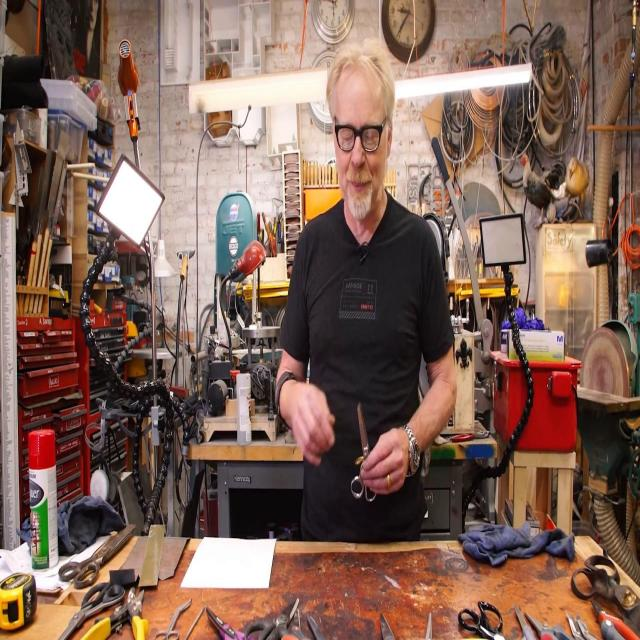scissor: (571, 553, 640, 640), (58, 524, 136, 591), (56, 581, 125, 640), (350, 401, 378, 502), (245, 598, 298, 640), (458, 600, 506, 640), (207, 605, 255, 640), (154, 599, 192, 640), (524, 610, 572, 640), (281, 607, 310, 640), (514, 602, 537, 640)
